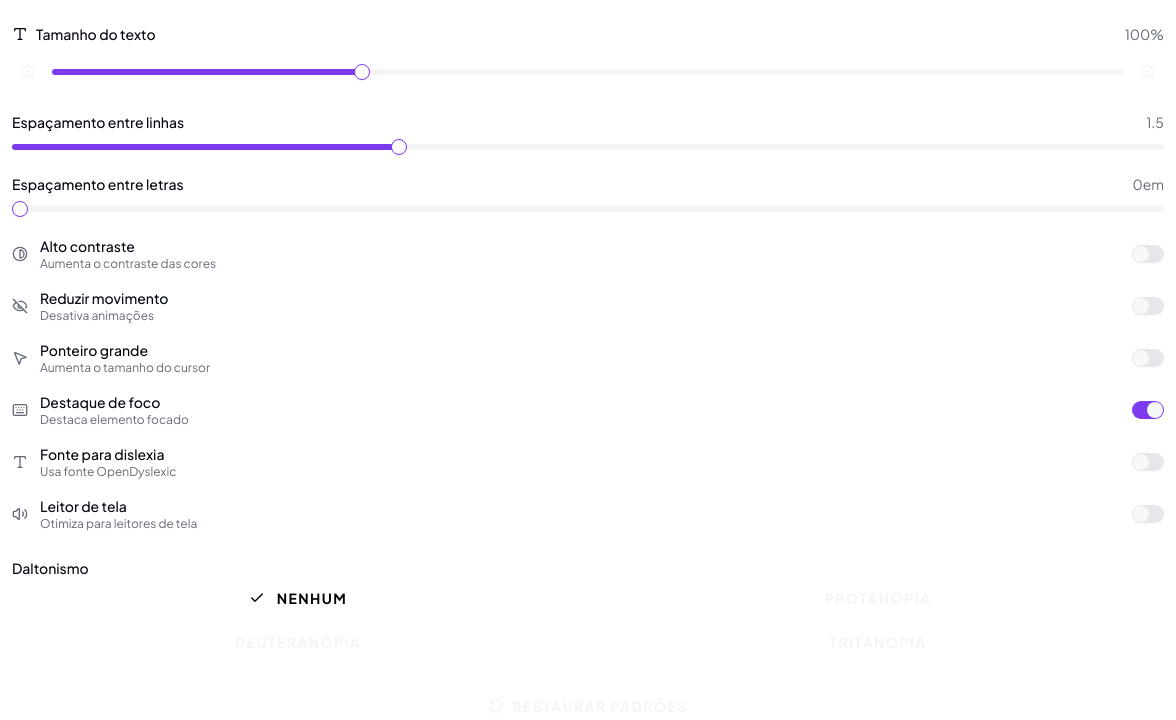
o interruptor Reduzir movimento chega no framer-motion › desligar o switch devolve a animacao do sistema
Click the switch in the row of "Reduzir movimento".
click(1148, 306)  # box [1132,297,1164,315]
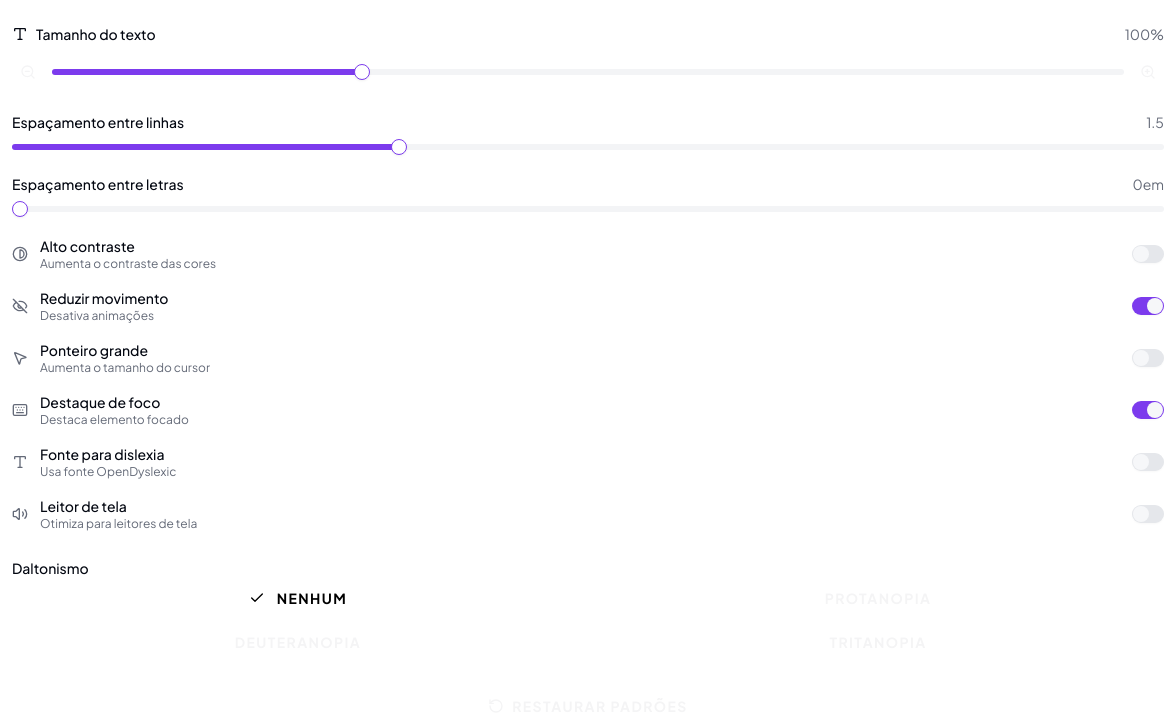
Click the switch in the row of "Reduzir movimento".
click(1148, 306)  # box [1132,297,1164,315]
(page scrolled)
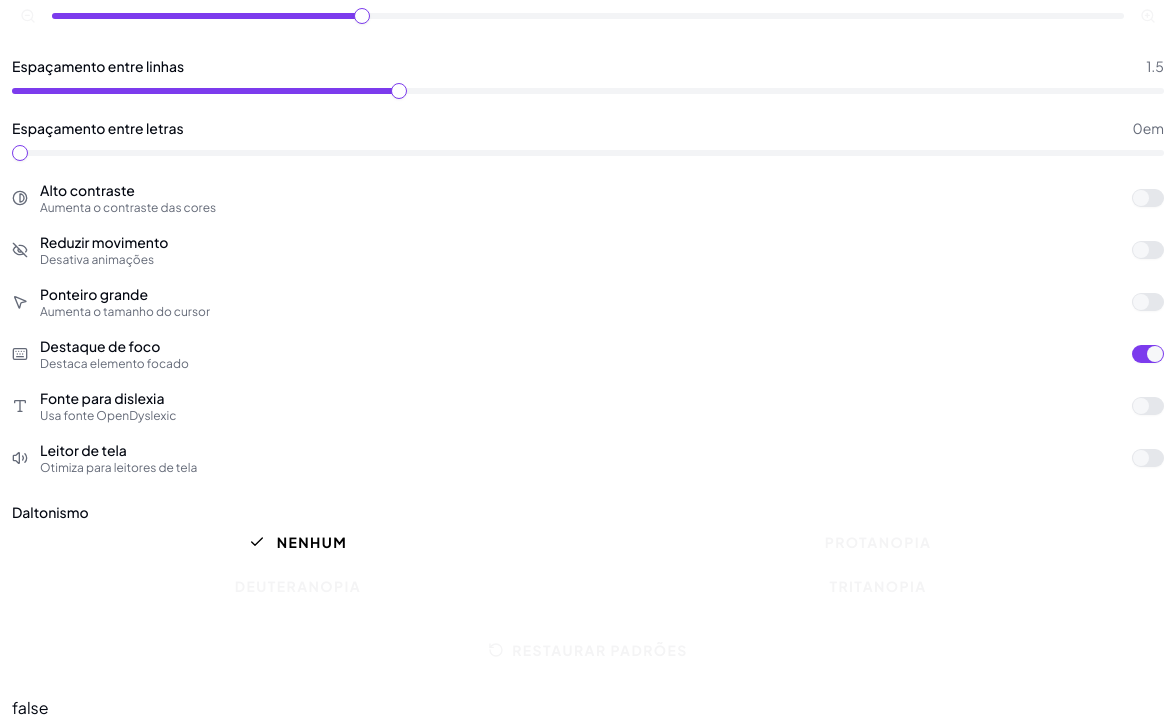
Expected: the text with test id "sonda-movimento" reads "false", [12,697,49,718]
